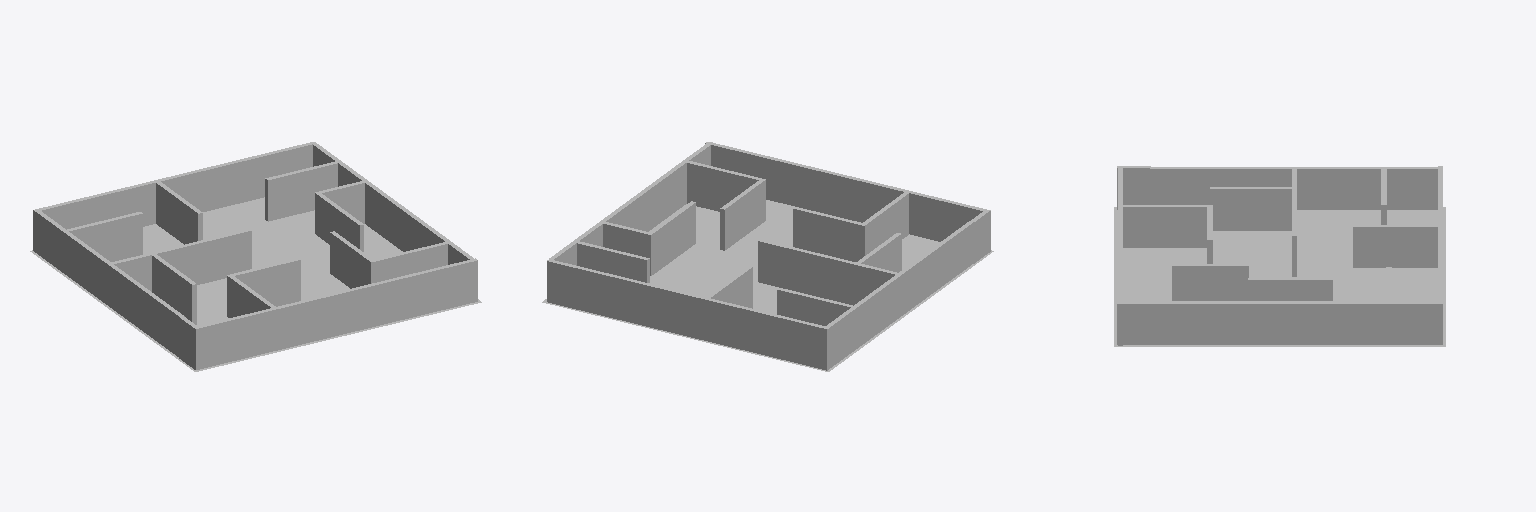
Rendered from backroomOG.obj.
3 renders of one model, left to right at view 1: azimuth 30°, elevation 25°; view 2: azimuth 150°, elevation 25°; view 3: azimuth 270°, elevation 25°, orthographic.
Parts seen in each view (by area): view 1: Plane, Cube.002, Cube.003, Cube, Cube.006, Cube.026, Cube.024, Cube.018, Cube.005, Cube.010, Cube.011, Cube.021 (+16 smaller); view 2: Plane, Cube.001, Cube.005, Cube.006, Cube.002, Cube.021, Cube.024, Cube.003, Cube.023, Cube, Cube.017, Cube.011 (+15 smaller); view 3: Plane, Cube.012, Cube.013, Cube.014, Cube.009, Cube.025, Cube.020, Cube.027, Cube.011, Cube.028, Cube.010, Cube.019 (+2 smaller).
Part boxes in pixels (bbox=[...]): Plane: bbox=[30, 197, 481, 371]; Cube.002: bbox=[310, 279, 394, 341]; Cube.003: bbox=[225, 299, 310, 362]; Cube: bbox=[393, 258, 477, 321]; Cube.006: bbox=[203, 148, 288, 211]; Cube.026: bbox=[265, 161, 337, 221]; Cube.024: bbox=[185, 229, 251, 284]; Cube.018: bbox=[67, 212, 142, 261]; Cube.005: bbox=[117, 169, 204, 226]; Cube.010: bbox=[83, 245, 134, 321]; Cube.011: bbox=[131, 280, 184, 356]; Cube.021: bbox=[227, 258, 300, 317]; Plane: bbox=[542, 200, 993, 371]; Cube.001: bbox=[743, 307, 829, 370]; Cube.005: bbox=[659, 286, 744, 349]; Cube.006: bbox=[575, 266, 660, 329]; Cube.002: bbox=[789, 162, 875, 222]; Cube.021: bbox=[793, 207, 866, 261]; Cube.024: bbox=[758, 239, 823, 297]; Cube.003: bbox=[872, 183, 958, 241]; Cube.023: bbox=[822, 255, 897, 305]; Cube: bbox=[705, 142, 790, 204]; Cube.017: bbox=[687, 161, 760, 211]; Cube.011: bbox=[922, 221, 973, 297]; Plane: bbox=[1114, 207, 1445, 346]; Cube.012: bbox=[1341, 301, 1438, 344]; Cube.013: bbox=[1244, 301, 1341, 344]; Cube.014: bbox=[1150, 301, 1247, 344]; Cube.009: bbox=[1341, 167, 1438, 209]; Cube.025: bbox=[1353, 225, 1437, 267]; Cube.020: bbox=[1122, 205, 1207, 247]; Cube.027: bbox=[1210, 187, 1292, 230]; Cube.011: bbox=[1150, 167, 1247, 204]; Cube.028: bbox=[1167, 264, 1248, 300]; Cube.010: bbox=[1246, 167, 1343, 209]; Cube.019: bbox=[1248, 278, 1333, 300].
Size of the model in its own units: 30 by 4.13 by 30.